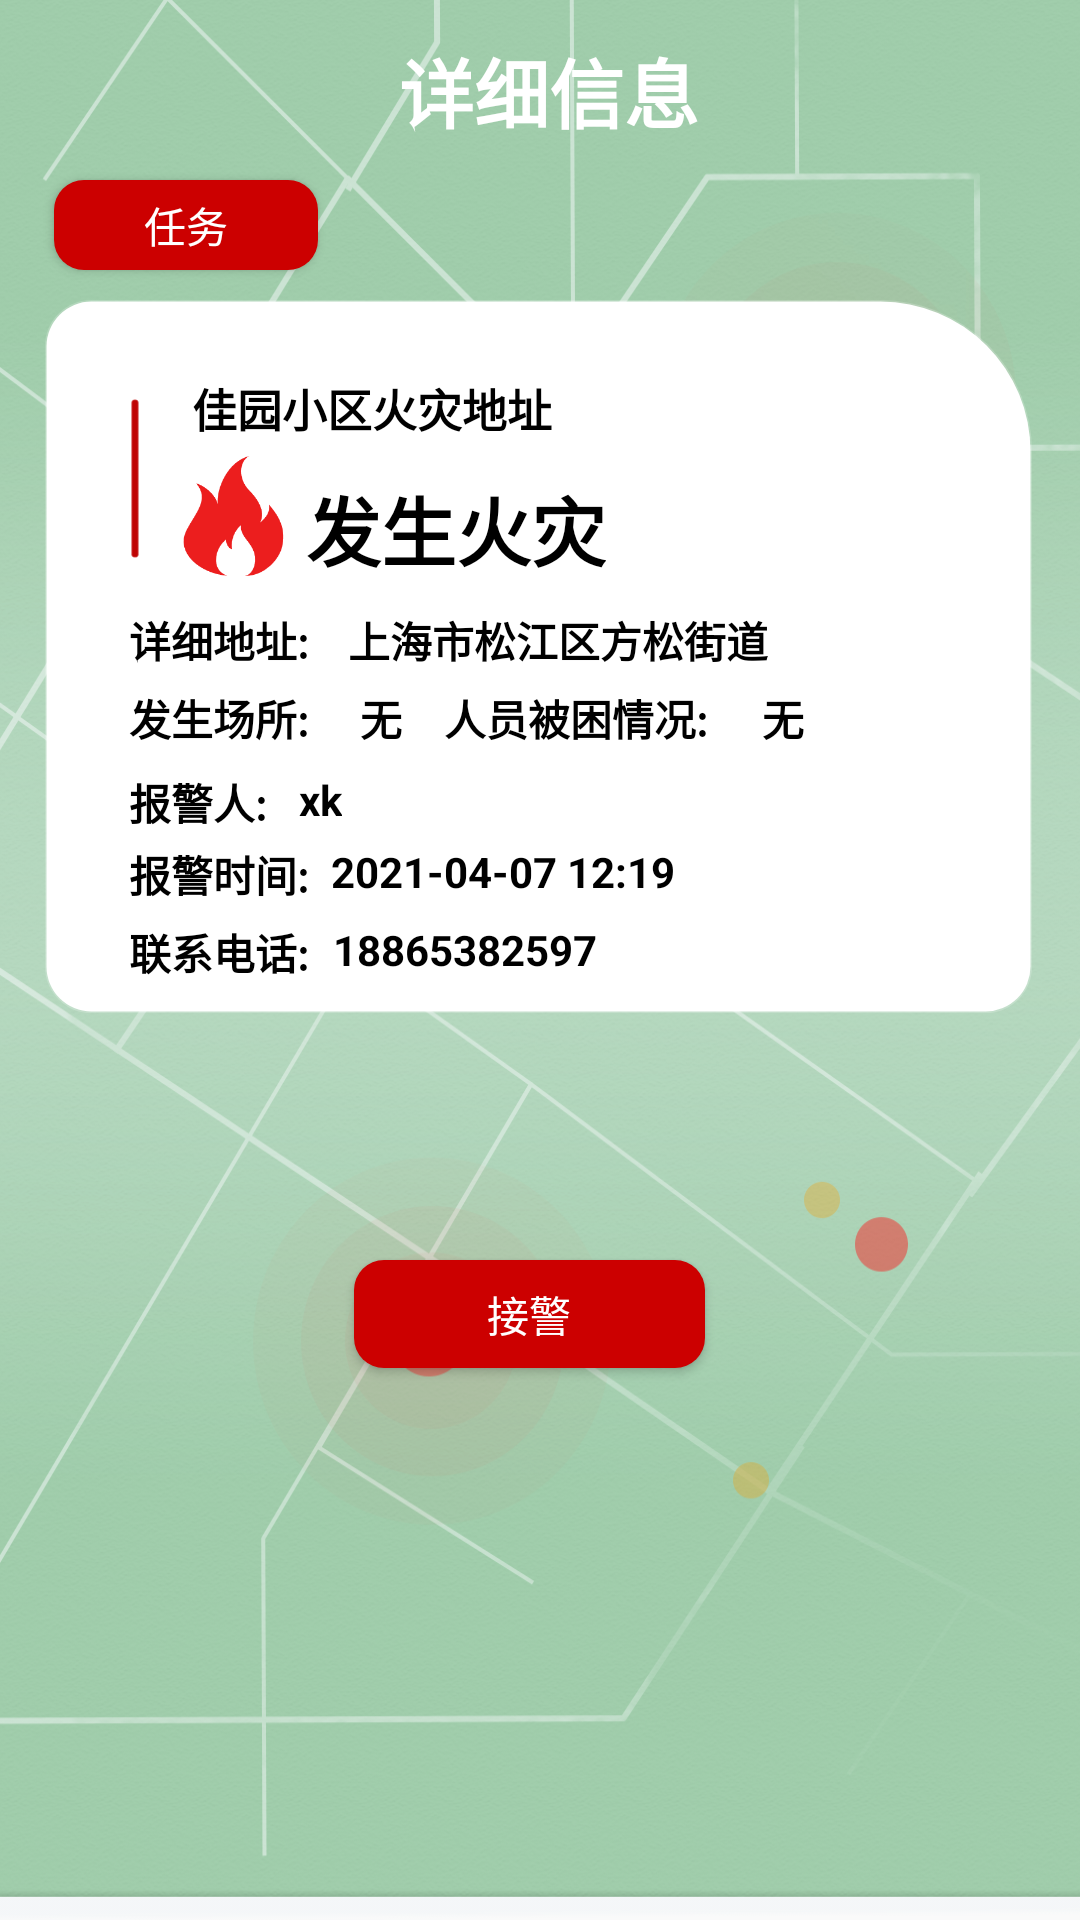

Point at icon controls on the screen. Image size 1080w x 1920h, points as [x,y].
fire: [233,516]
